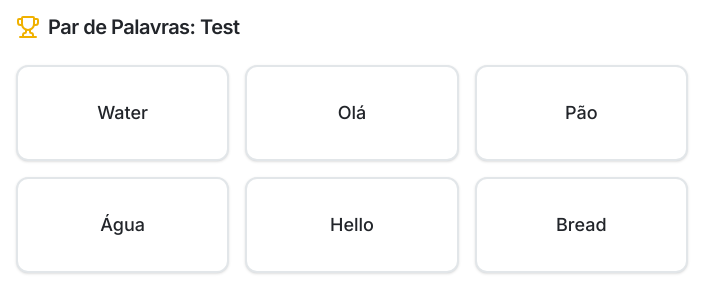
Test: MatchingPairsGame › keeps a selected card selected so the pair can be matched
Click the button "Hello".
click(352, 225)  # box [245,177,459,273]
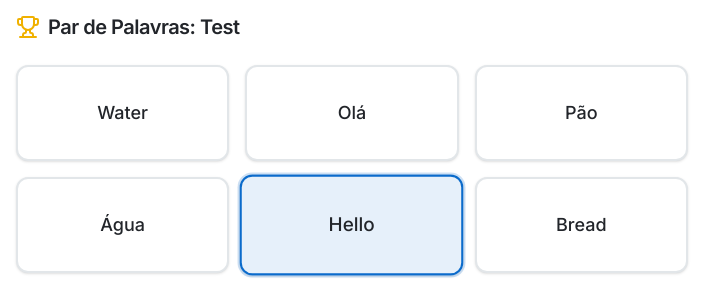
Click the button "Olá".
click(352, 113)  # box [245,65,459,161]
Wait 500 ms
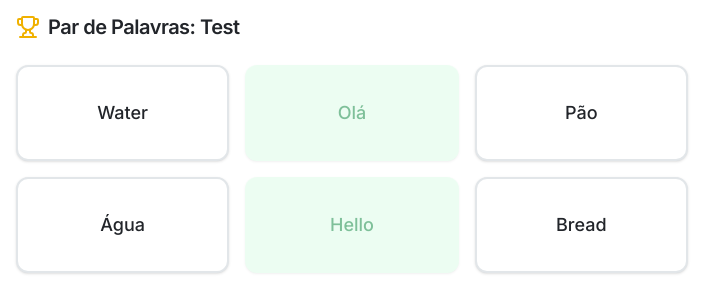
Expected: the button "Água" is enabled, [16,177,229,273]
Now the button "Hello" is disabled, box [245,177,459,273]
Now the button "Olá" is disabled, box [245,65,459,161]
